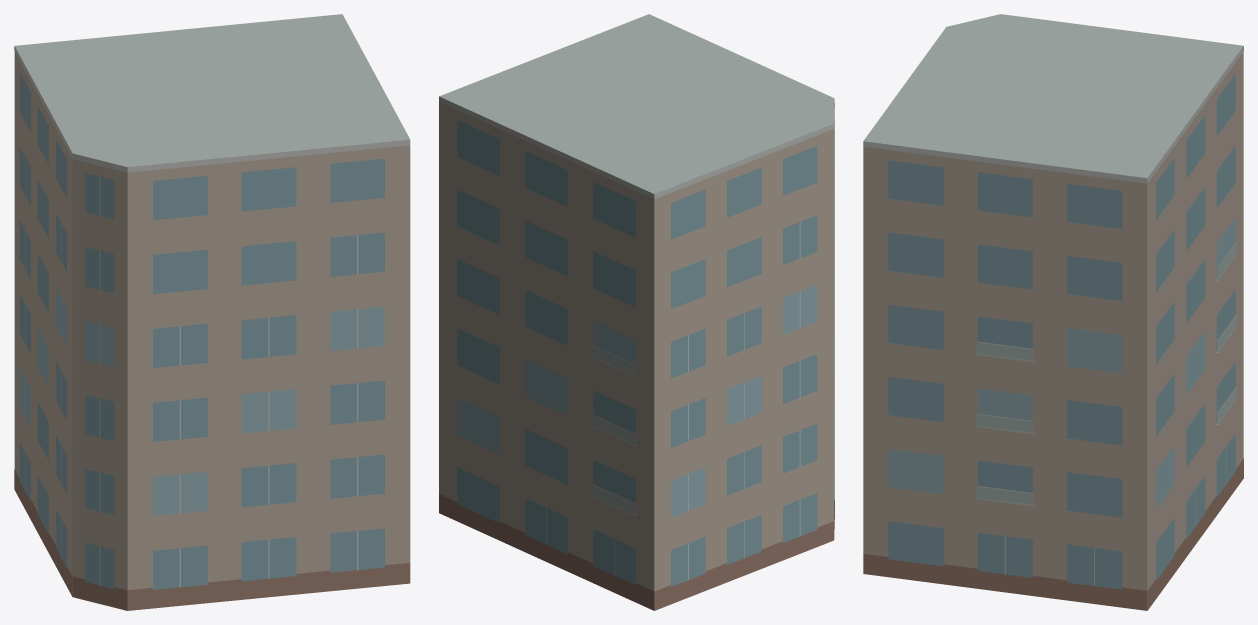
Rendered from survey-upis-32529472.glb.
3 renders of one model, left to right at view 1: azimuth 30°, elevation 25°; view 2: azimuth 150°, elevation 25°; view 3: azimuth 270°, elevation 25°, orthographic. The views are drawn at different scales.
Parts seen in each view (by area): view 1: survey-upis-32529472.tmp; view 2: survey-upis-32529472.tmp; view 3: survey-upis-32529472.tmp.
Part boxes in pixels (box(x1,y1,x2,y2)): survey-upis-32529472.tmp: box(14, 14, 410, 610); survey-upis-32529472.tmp: box(439, 14, 834, 610); survey-upis-32529472.tmp: box(863, 14, 1243, 610).
Bounding box in the file's own units: 15.97 × 19.6 × 15.64.
